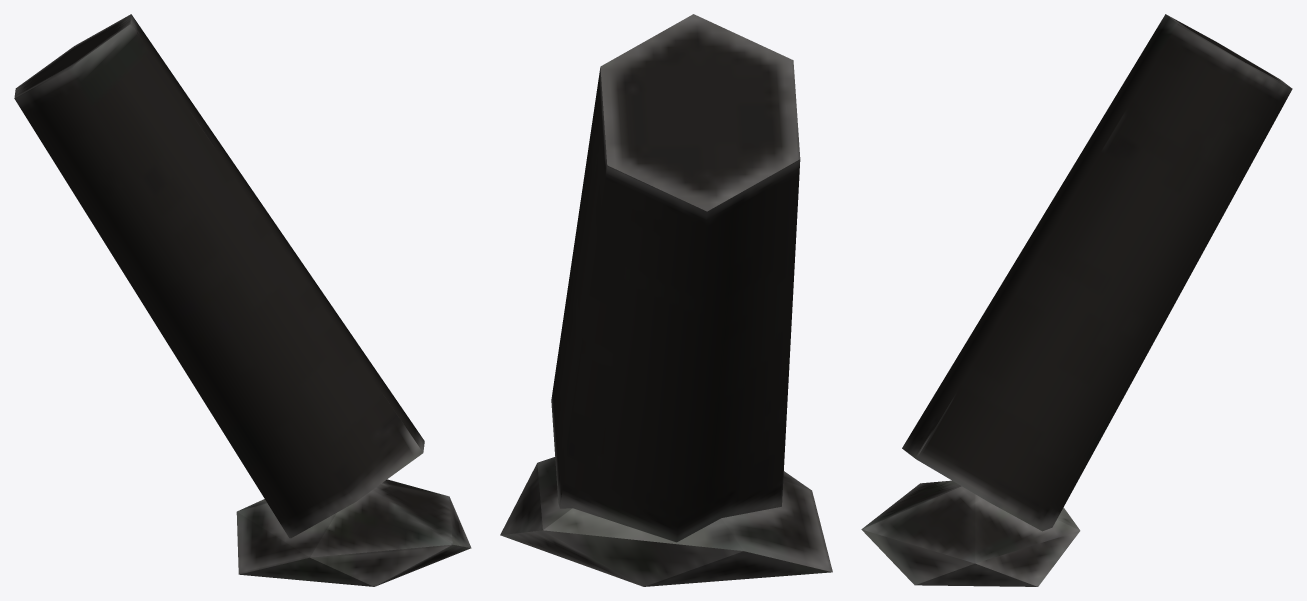
The model's file is charred_tree_4.glb.
3 views of the same model, side by side, from view 1: azimuth 30°, elevation 25°; view 2: azimuth 150°, elevation 25°; view 3: azimuth 270°, elevation 25° (orthographic). The views are drawn at different scales.
Parts seen in each view (by area): view 1: te_prop_charred_tree_4; view 2: te_prop_charred_tree_4; view 3: te_prop_charred_tree_4.
Boxes of the visible parts, box(x1,y1,x2,y2) form: te_prop_charred_tree_4: box(14, 14, 471, 586); te_prop_charred_tree_4: box(500, 14, 832, 586); te_prop_charred_tree_4: box(861, 14, 1292, 586).
Bounding box in the file's own units: 0.1172 × 0.1711 × 0.1443.
1 material, 1 textured.
